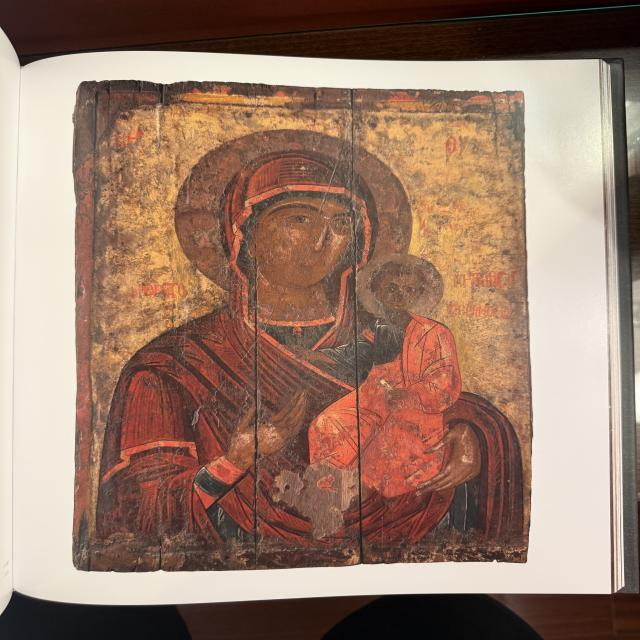aura: (177, 129, 416, 301), (359, 255, 447, 321)
christ_child: (281, 247, 472, 518)
christ_hand: (275, 335, 333, 367)
mary_and_child: (80, 130, 529, 563)
scroll: (377, 377, 411, 405)
